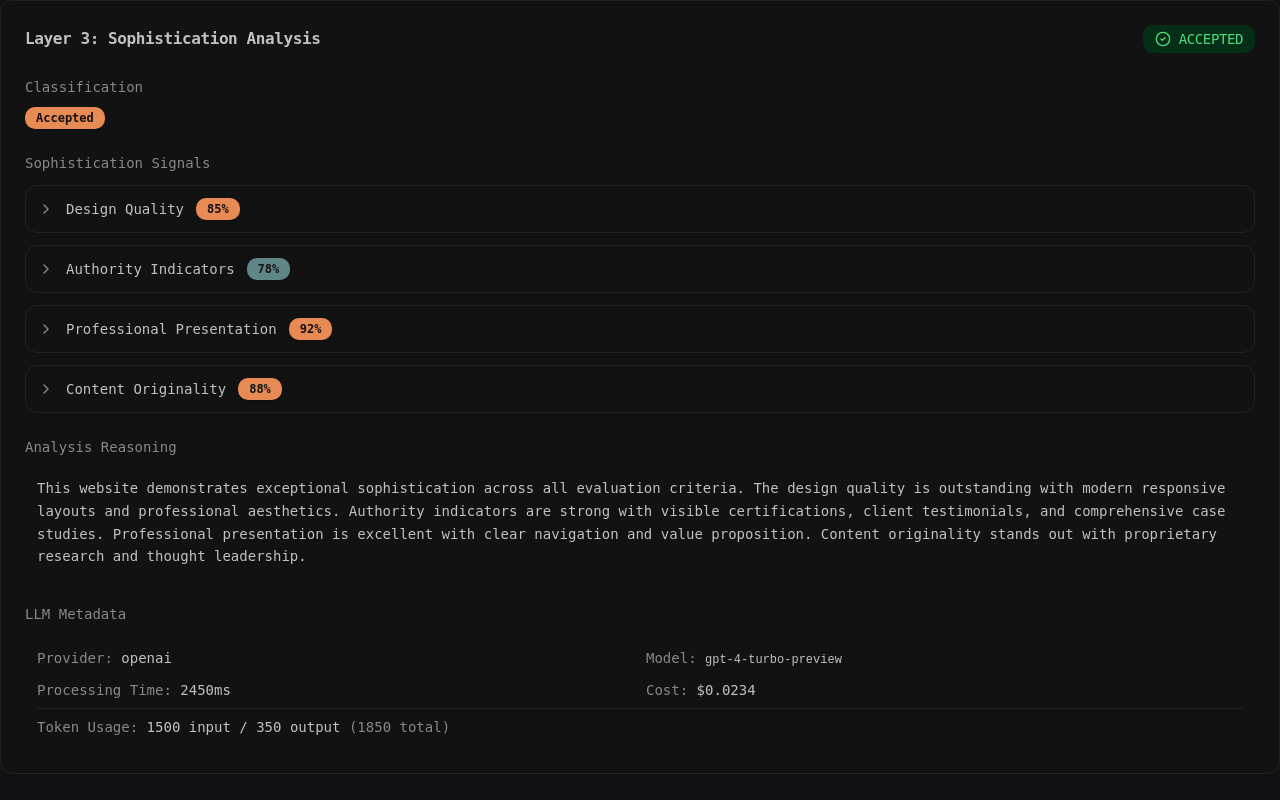
Scenario: Layer3Factors Display Component › Expandable Sections › should allow multiple sections to be expanded simultaneously
This screenshot has width=1280, height=800.
# Expand design quality
Click the button "Design Quality 85%": (125, 209) [26,186,1254,232]
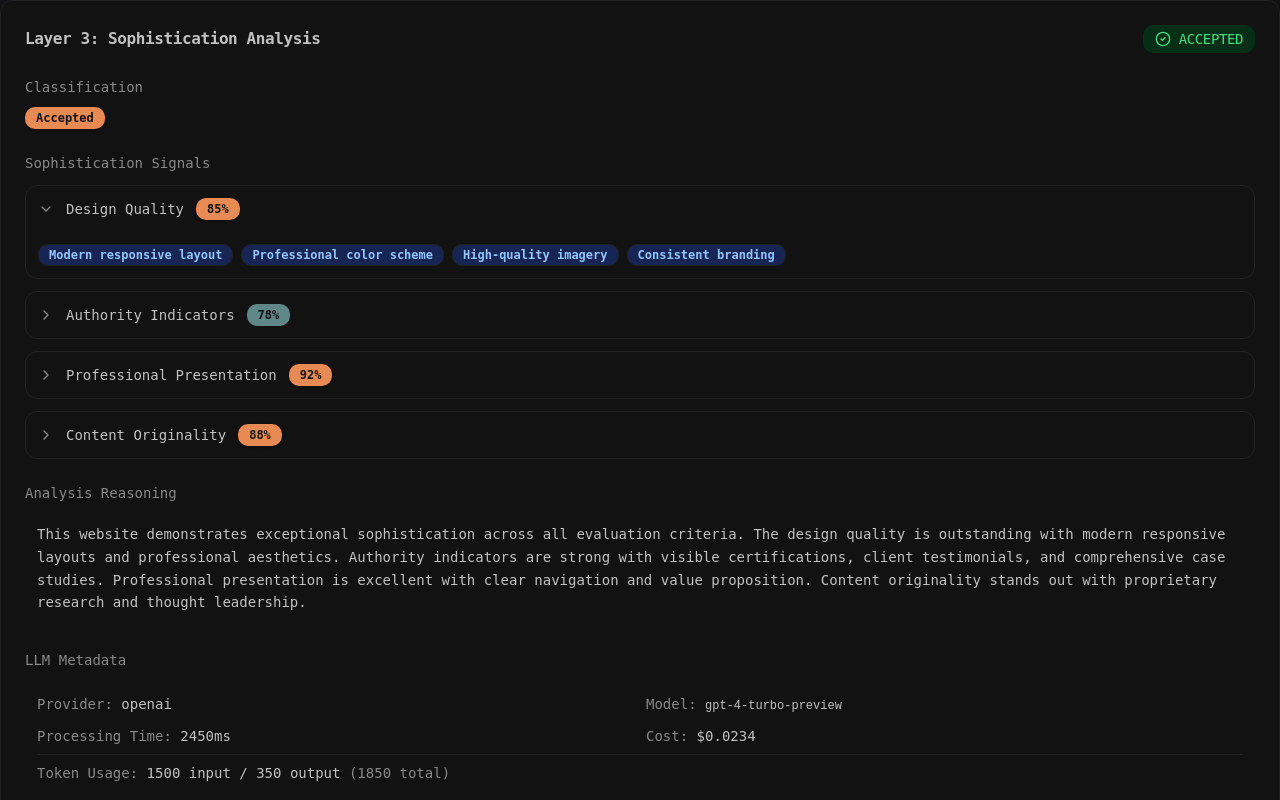
Expected: the text "Modern responsive layout" is shown, [38,244,233,266]
# Expand authority indicators
Click the button "Authority Indicators 78%": (150, 315) [26,292,1254,338]
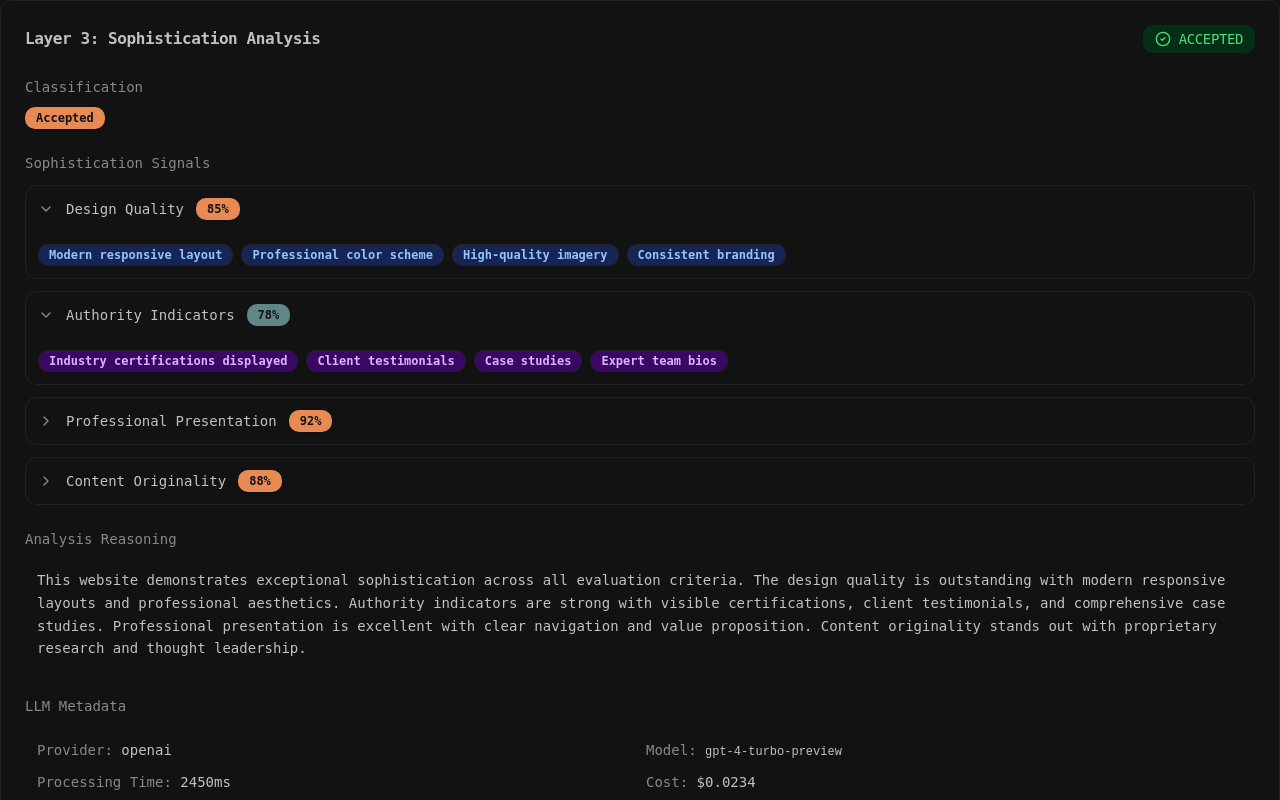
Expected: the text "Modern responsive layout" is shown, [38,244,233,266]
Expected: the text "Industry certifications displayed" is shown, [38,350,298,372]
